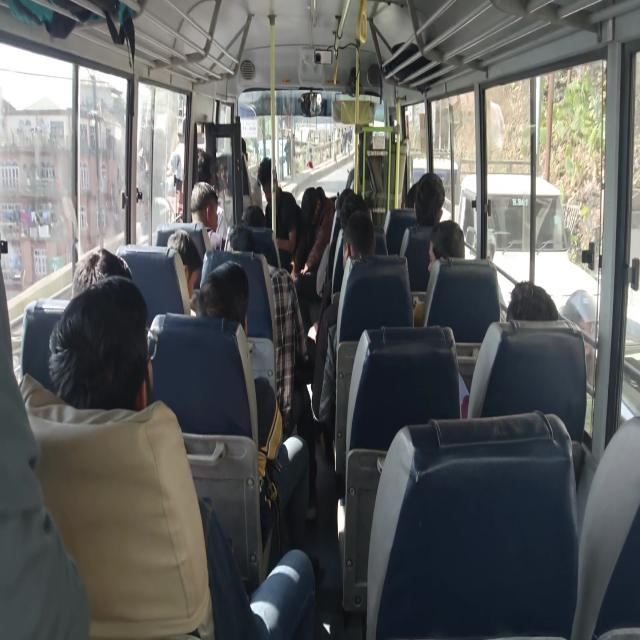person: (45, 275, 161, 410), (63, 230, 138, 312), (195, 255, 251, 338), (498, 275, 560, 331), (164, 224, 203, 304), (339, 208, 380, 268), (429, 212, 465, 275), (409, 169, 451, 217), (192, 171, 220, 238), (337, 178, 369, 230), (256, 153, 286, 203), (296, 182, 326, 228), (230, 222, 260, 260), (192, 147, 218, 190), (352, 114, 378, 152), (238, 202, 266, 228), (239, 124, 250, 167), (335, 186, 357, 205), (403, 184, 415, 216)
